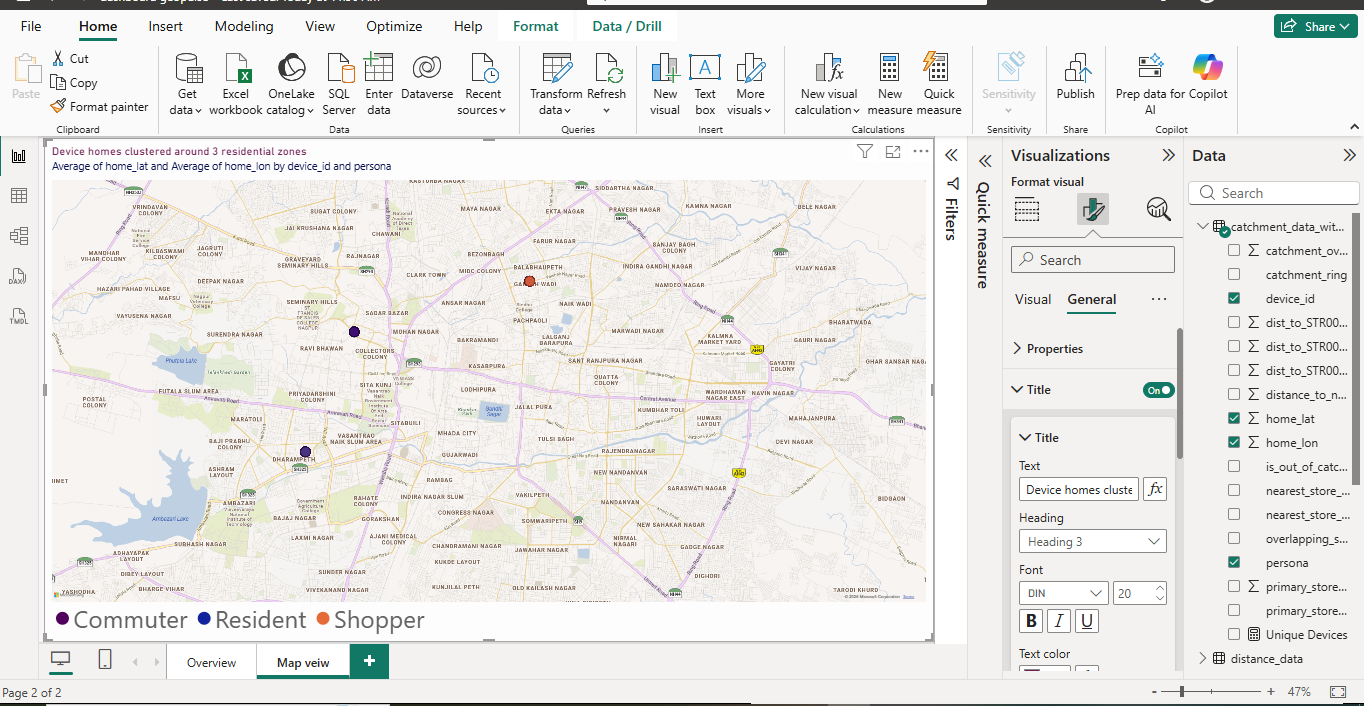

The page's visual inventory and layout, read from the dashboard file:
{"tool":"powerbi","page":{"name":"Map veiw","canvas":[1920,1080],"ordinal":1},"visuals":[{"type":"map","title":"Device homes clustered around 3 residential zones","fields":{"Series":["catchment_data_with_rules.persona"],"Y":["Avg(catchment_data_with_rules.home_lat)"],"X":["Avg(catchment_data_with_rules.home_lon)"],"Category":["catchment_data_with_rules.device_id"]},"box":[10.6,0,1909.4,1080.2],"z":0}]}

Visuals, with their boxes in screenshot pixels (x1, y1, x2, y2):
"Device homes clustered around 3 residential zones" map: detection(121, 4, 1353, 701)
